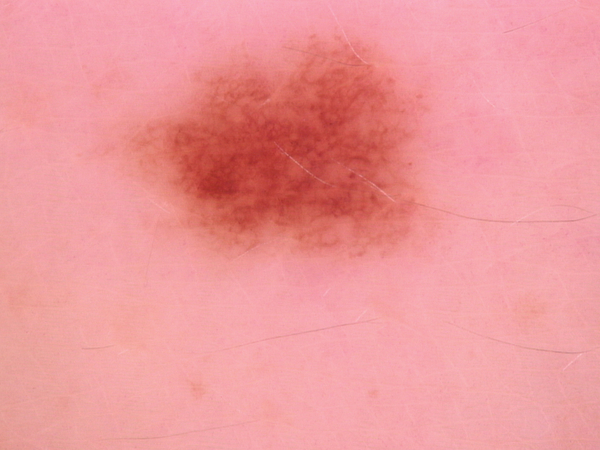Detected Lesion: (116, 28, 427, 256)
